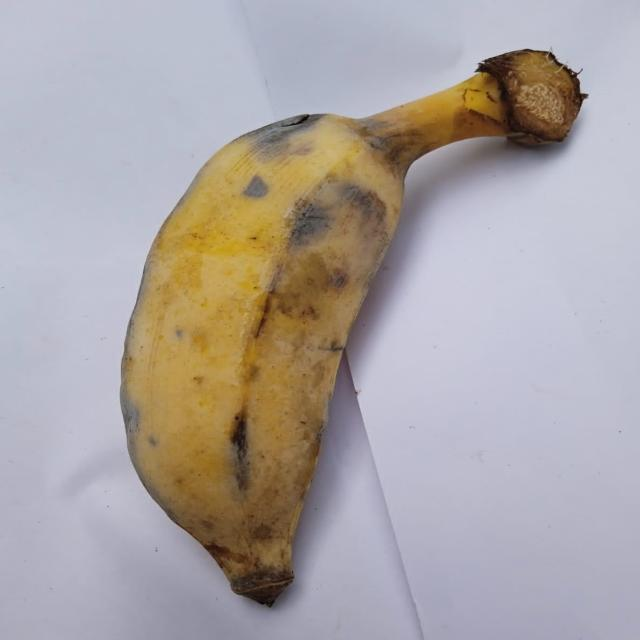banana: (121, 50, 583, 604)
